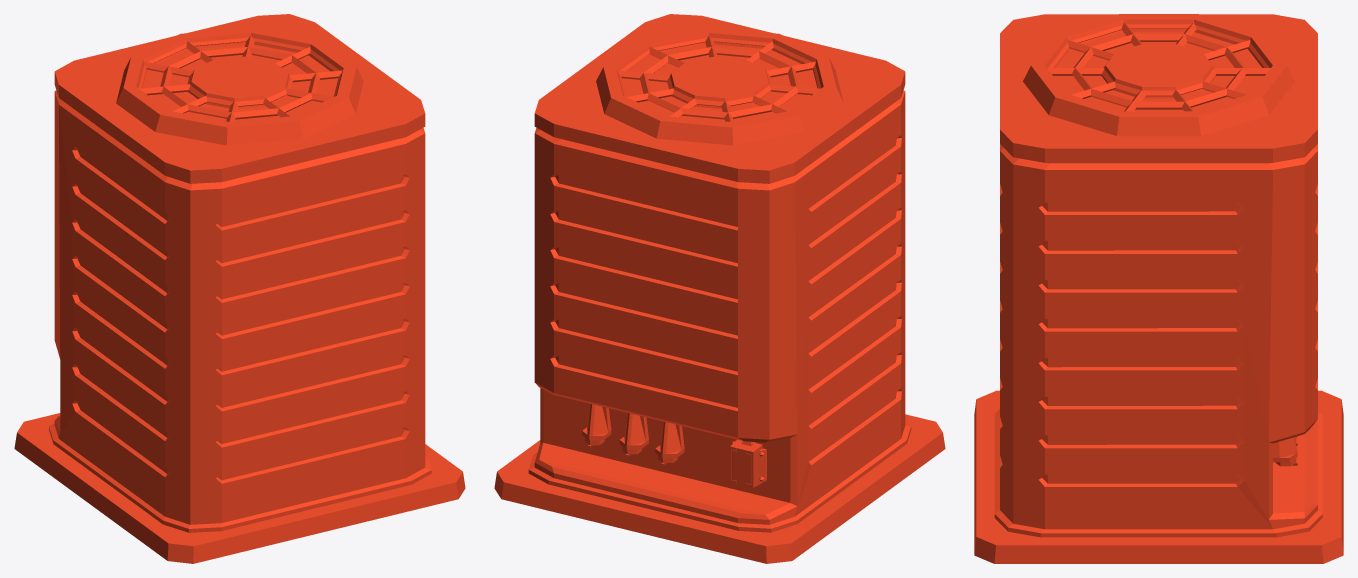
The model's file is SM_AC_D_City.fbx.
3 renders of one model, left to right at view 1: azimuth 30°, elevation 25°; view 2: azimuth 150°, elevation 25°; view 3: azimuth 270°, elevation 25°, orthographic. The views are drawn at different scales.
Parts seen in each view (by area): view 1: SM_AC_D_City; view 2: SM_AC_D_City; view 3: SM_AC_D_City.
Boxes of the visible parts, x1=… form: SM_AC_D_City: x1=14, y1=14, x2=465, y2=563; SM_AC_D_City: x1=494, y1=14, x2=945, y2=563; SM_AC_D_City: x1=974, y1=14, x2=1343, y2=563.
Size of the model in its own units: 1.03 by 1.29 by 1.03.
